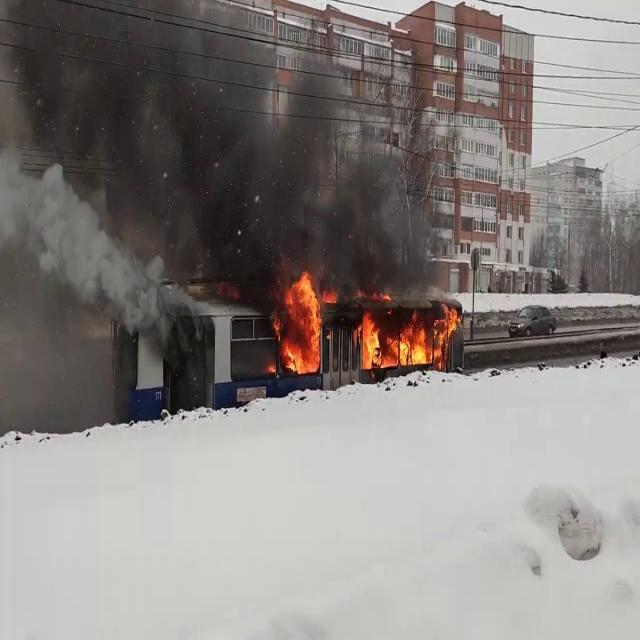Fire: (354, 295, 462, 373), (274, 268, 324, 377)
Smoke: (0, 11, 446, 310), (0, 142, 175, 326)
